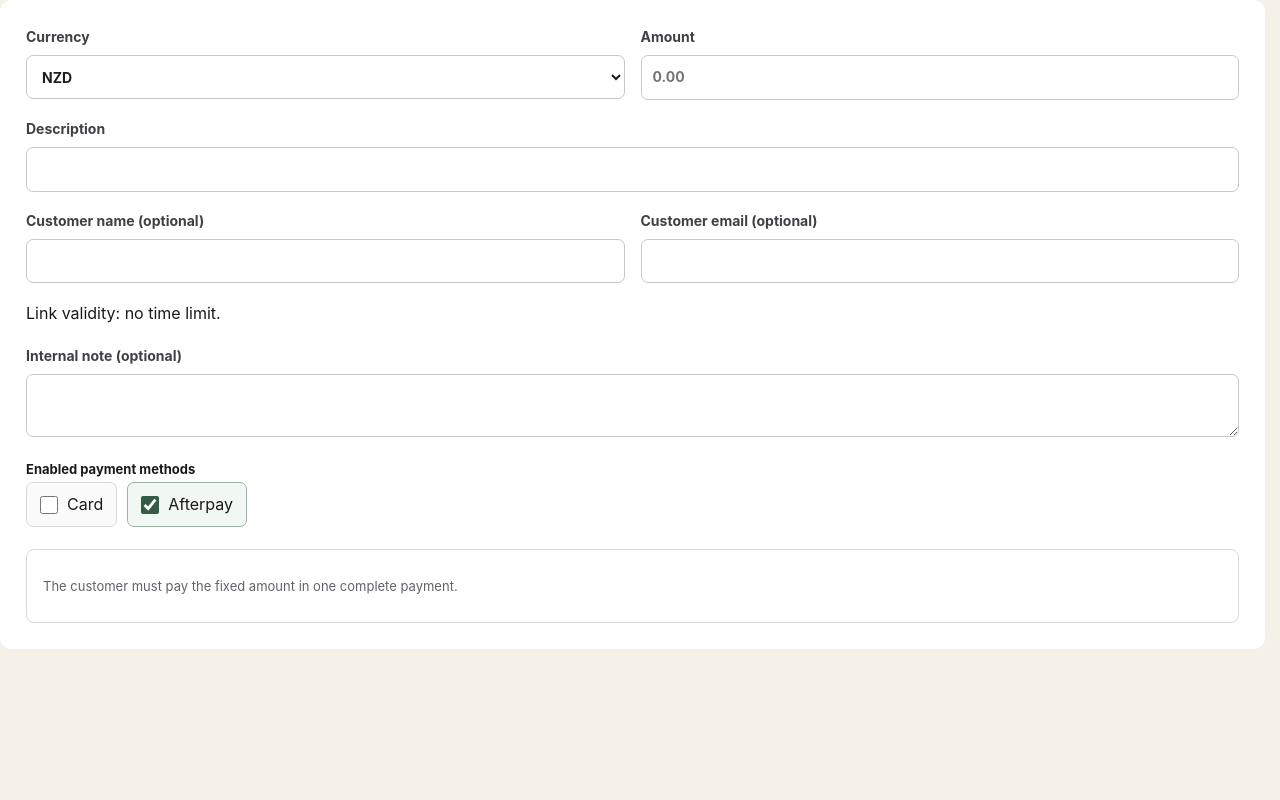
Test: Admin PaymentRequestForm › rejects a standalone amount above the advertised maximum before sending a request
Step 1. Type "1000000.01" into the field labelled "Amount" → (940, 78), box [640,55,1239,100]
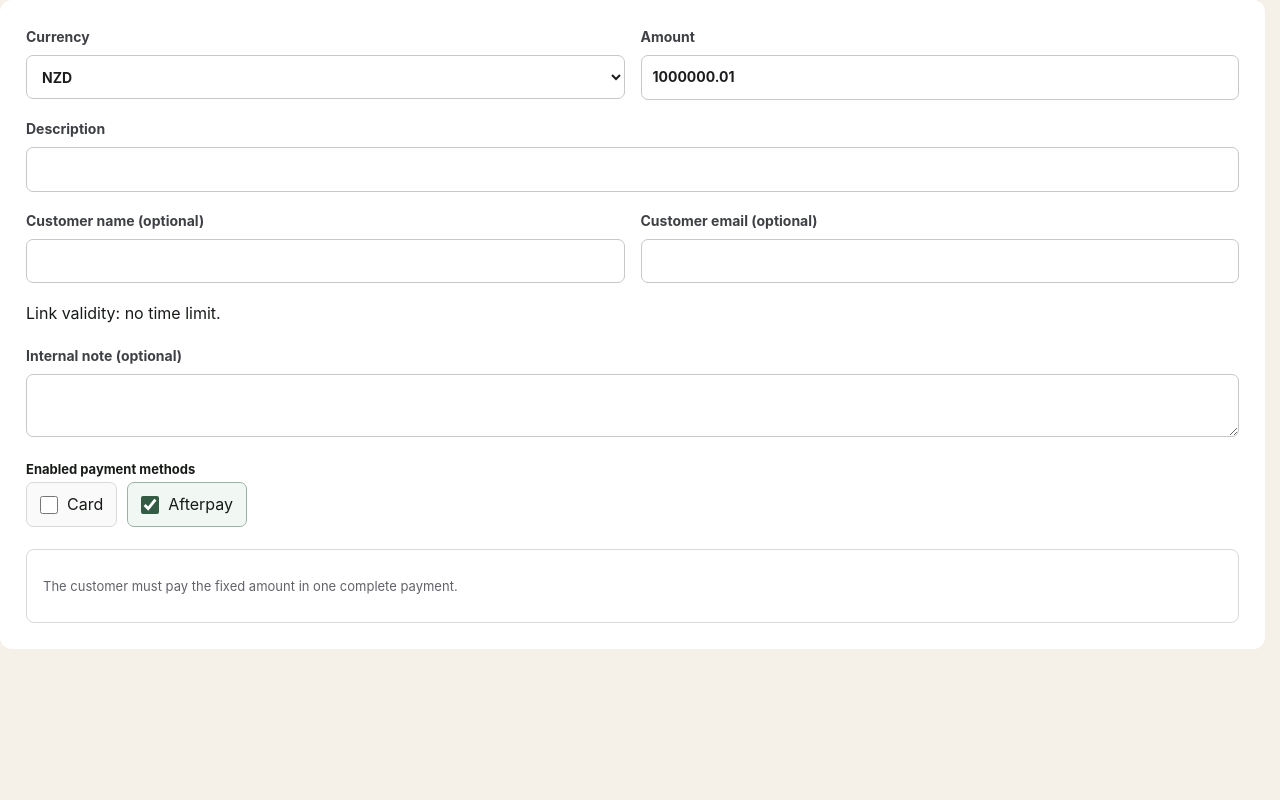
Step 2. Type "Large balance" into the field labelled "Description" → (632, 169), box [26,147,1239,192]
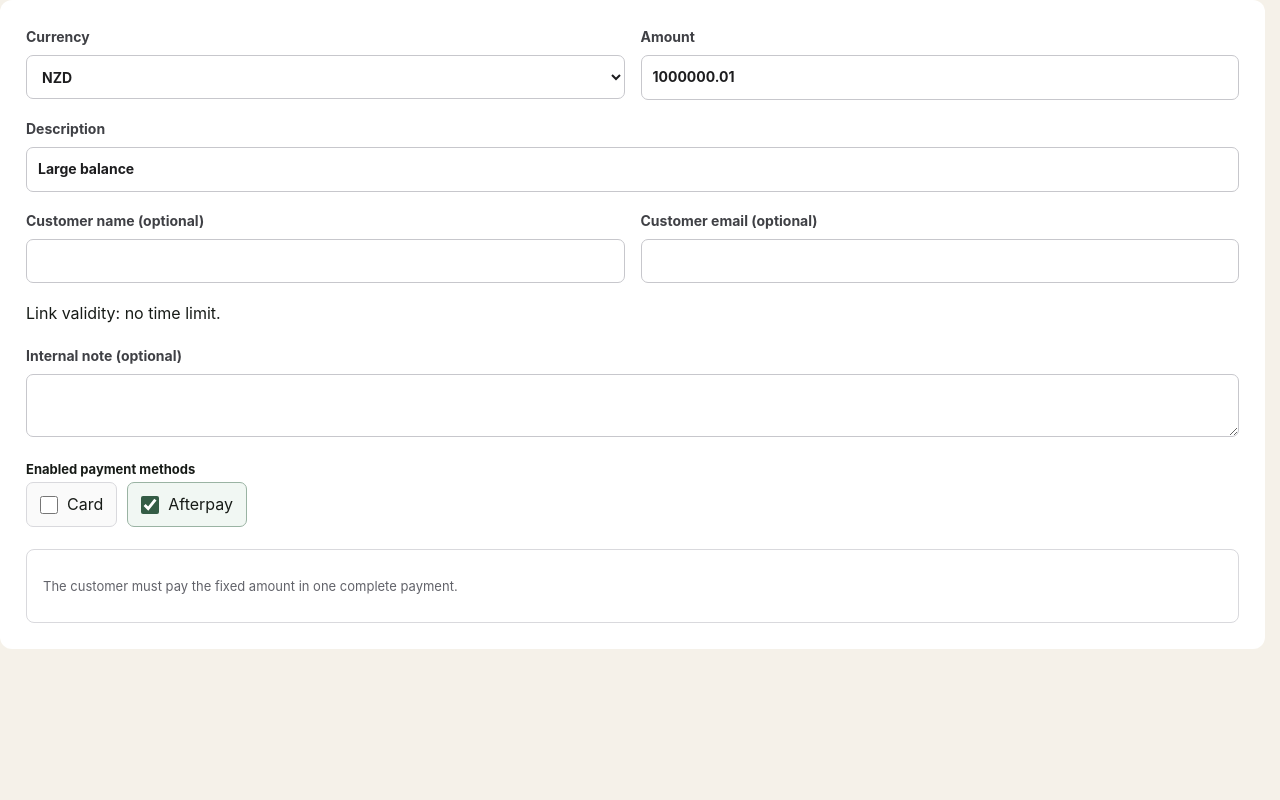
Step 3. Submit the form named "Create payment request"
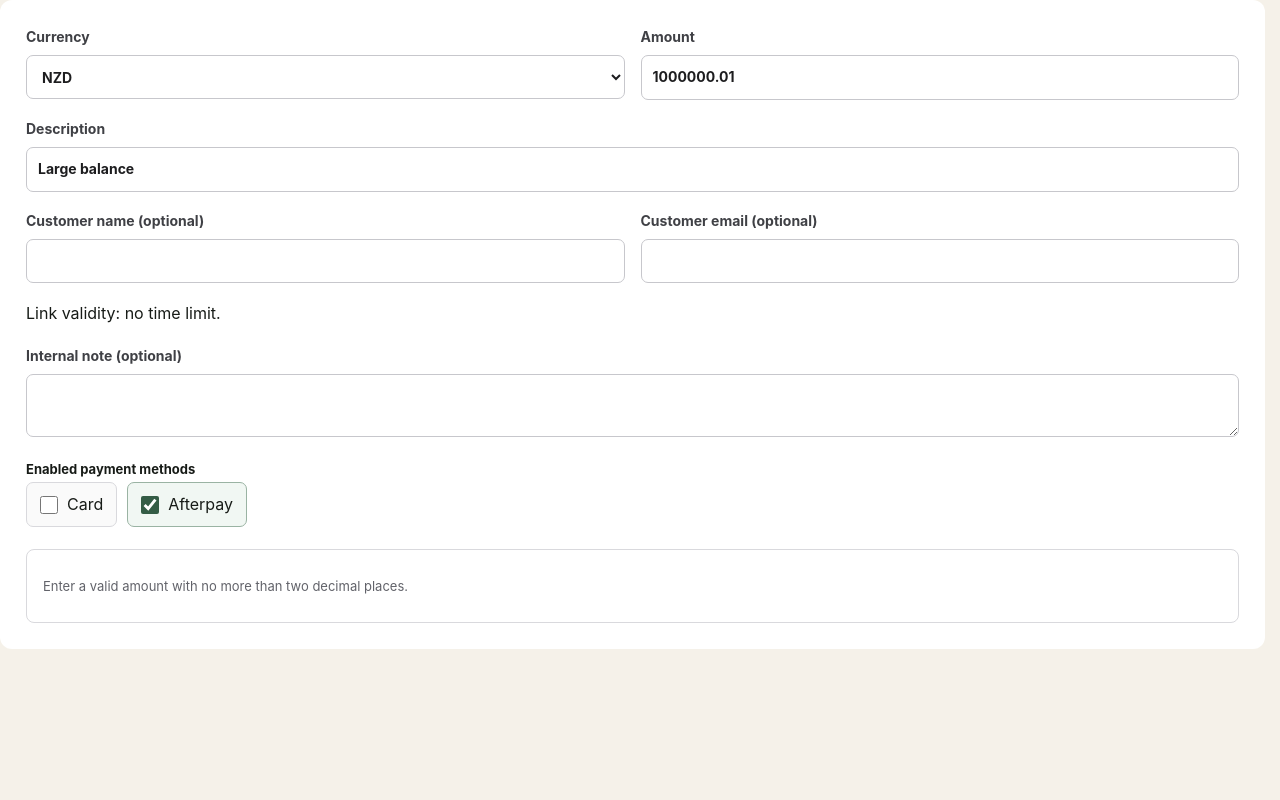
Expected: the text "Enter a valid amount with no more than two decimal places." is shown, [43,577,408,596]
